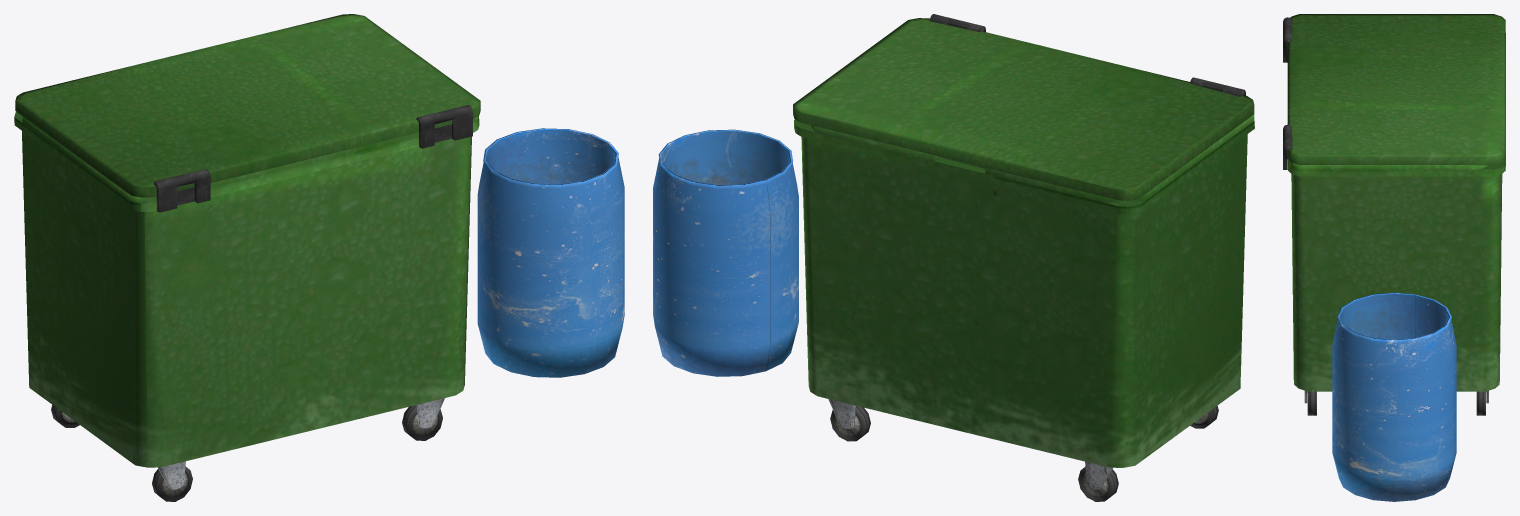
File: container_barrel.fbx
3 views of the same model, side by side, from view 1: azimuth 30°, elevation 25°; view 2: azimuth 150°, elevation 25°; view 3: azimuth 270°, elevation 25° (orthographic). The views are drawn at different scales.
Visible parts, largest first — view 1: container:Body, container:Lid, Barrel; view 2: container:Body, container:Lid, Barrel; view 3: container:Body, container:Lid, Barrel.
Part boxes in pixels (left/top/right/bottom): container:Body: left=14, top=105, right=479, bottom=501; container:Lid: left=15, top=14, right=480, bottom=197; Barrel: left=477, top=128, right=624, bottom=377; container:Body: left=794, top=14, right=1254, bottom=501; container:Lid: left=793, top=18, right=1254, bottom=200; Barrel: left=653, top=129, right=798, bottom=376; container:Body: left=1283, top=17, right=1505, bottom=415; container:Lid: left=1287, top=14, right=1505, bottom=165; Barrel: left=1332, top=292, right=1456, bottom=501.
Size of the model in its own units: 0.5692 by 0.338 by 0.2419.
